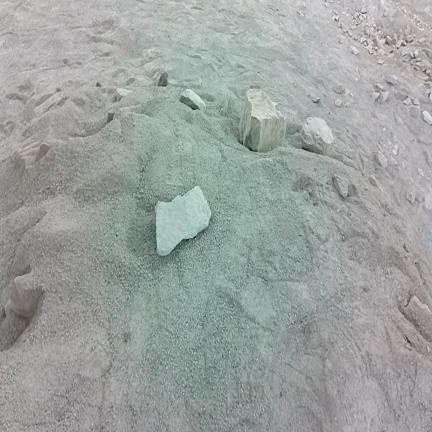Rock: (156, 186, 211, 255), (239, 89, 286, 152), (8, 272, 42, 317), (301, 118, 334, 155), (404, 296, 431, 341), (34, 92, 65, 115), (11, 250, 31, 278), (180, 89, 205, 111), (333, 175, 350, 197), (36, 144, 50, 161), (368, 175, 382, 191), (375, 152, 387, 168), (116, 89, 132, 101), (421, 110, 432, 125), (408, 105, 420, 118), (378, 91, 389, 104), (416, 189, 425, 203), (158, 72, 167, 86), (333, 84, 345, 94), (308, 94, 320, 104), (106, 112, 115, 123), (406, 192, 415, 203), (349, 46, 359, 55), (387, 75, 397, 84), (396, 40, 405, 48), (375, 83, 383, 92), (425, 89, 432, 98), (391, 155, 397, 165), (377, 143, 383, 153), (377, 38, 383, 48), (373, 92, 380, 100), (335, 99, 342, 107), (418, 168, 424, 177), (404, 98, 411, 105), (378, 48, 385, 55), (386, 36, 392, 44), (405, 26, 410, 35), (422, 76, 431, 81), (419, 37, 426, 43), (424, 6, 430, 13), (413, 99, 419, 105), (408, 52, 413, 59), (368, 39, 373, 46), (366, 28, 370, 36), (378, 59, 384, 64), (356, 5, 361, 11), (368, 48, 373, 54), (414, 50, 418, 57), (395, 145, 398, 154), (96, 82, 101, 87), (361, 8, 366, 13), (336, 15, 340, 21), (348, 31, 352, 37), (334, 9, 338, 15), (342, 12, 348, 16), (388, 140, 392, 145), (350, 93, 354, 98), (350, 26, 355, 30), (355, 12, 358, 18), (360, 37, 363, 43), (382, 127, 386, 131), (359, 15, 363, 19), (324, 3, 328, 7), (389, 49, 393, 53), (300, 12, 304, 16), (332, 15, 335, 20), (416, 58, 421, 61), (393, 149, 396, 154), (346, 103, 349, 108), (336, 1, 340, 4), (346, 13, 349, 17), (430, 92, 431, 100), (329, 0, 333, 2)
